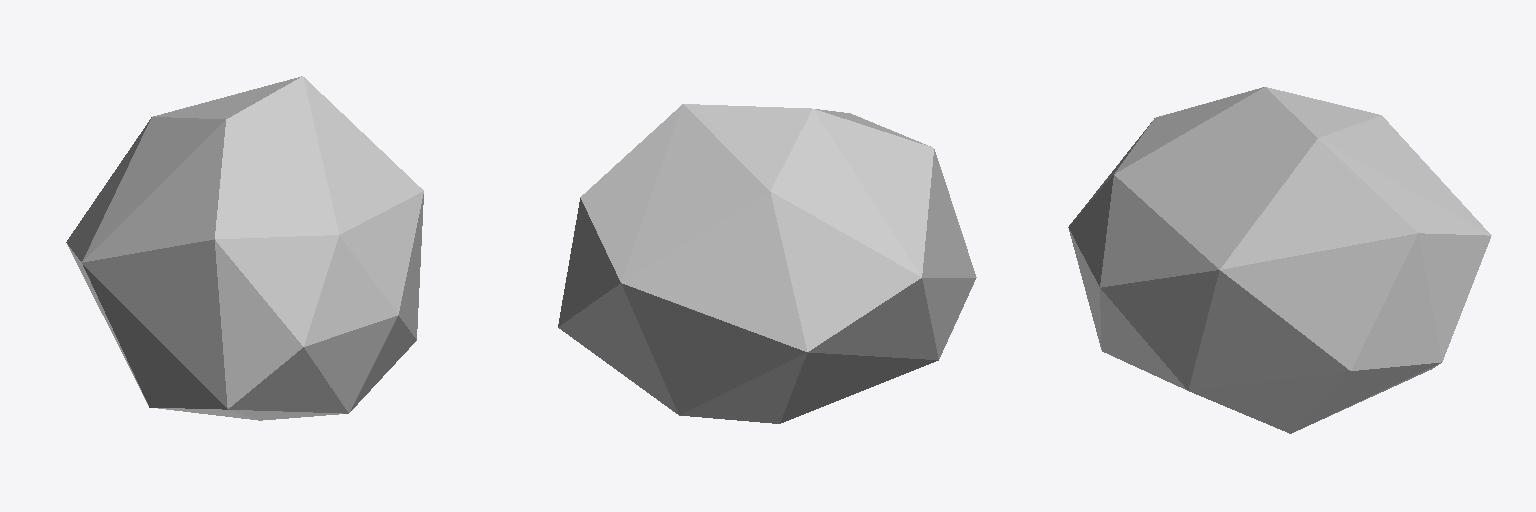
File: bush_1.obj
3 views of the same model, side by side, from view 1: azimuth 30°, elevation 25°; view 2: azimuth 150°, elevation 25°; view 3: azimuth 270°, elevation 25° (orthographic).
Visible parts, largest first — view 1: Bush02.001_Icosphere.009; view 2: Bush02.001_Icosphere.009; view 3: Bush02.001_Icosphere.009.
Part boxes in pixels (bbox=[...]): Bush02.001_Icosphere.009: bbox=[66, 76, 423, 420]; Bush02.001_Icosphere.009: bbox=[558, 104, 976, 423]; Bush02.001_Icosphere.009: bbox=[1068, 87, 1491, 433].
Bounding box in the file's own units: 1.36 × 1.19 × 1.52.